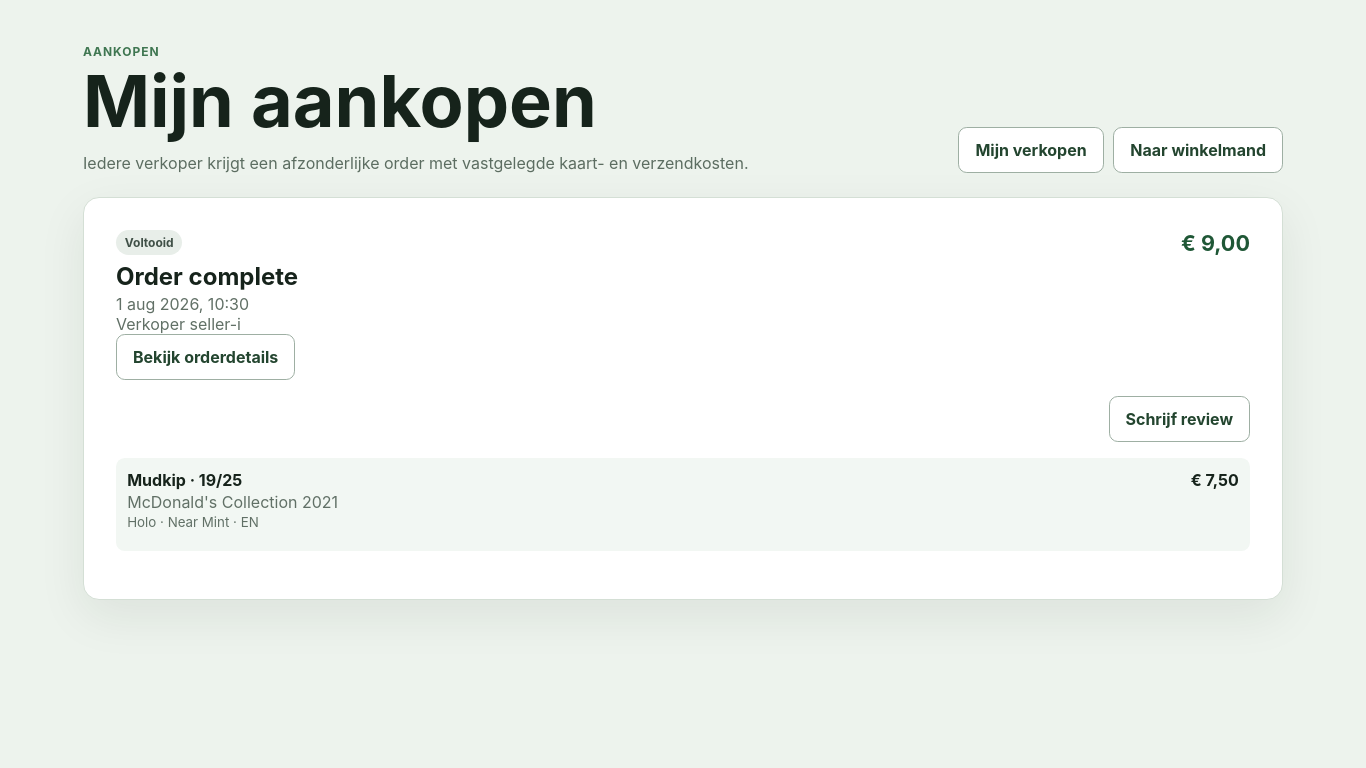
Test: OrdersPage › submits one completed-order review and removes the client-side action after success
Click the button "Schrijf review" at (1179, 419), box [1108,396,1250,442]
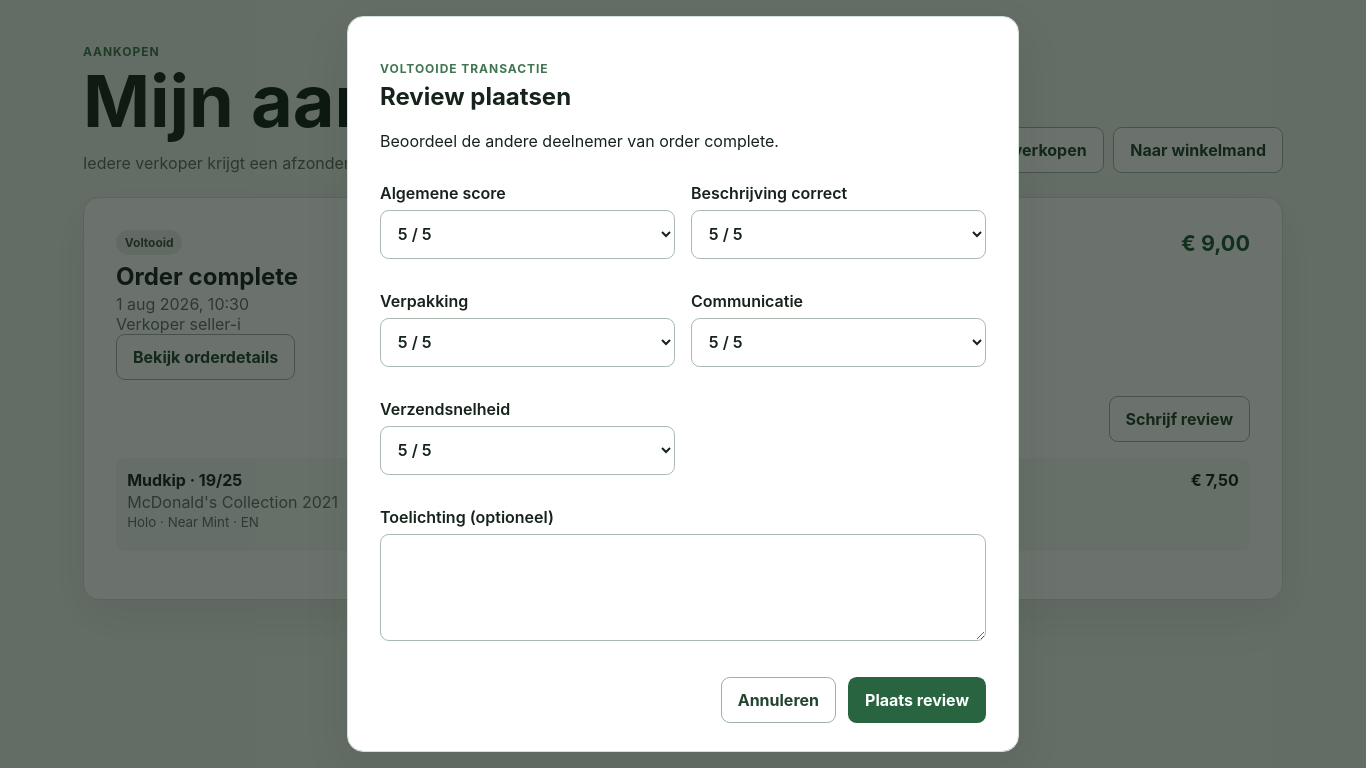
Check: the button "Plaats review" is shown
Click the button "Plaats review" at (917, 700), box [848,677,986,723]
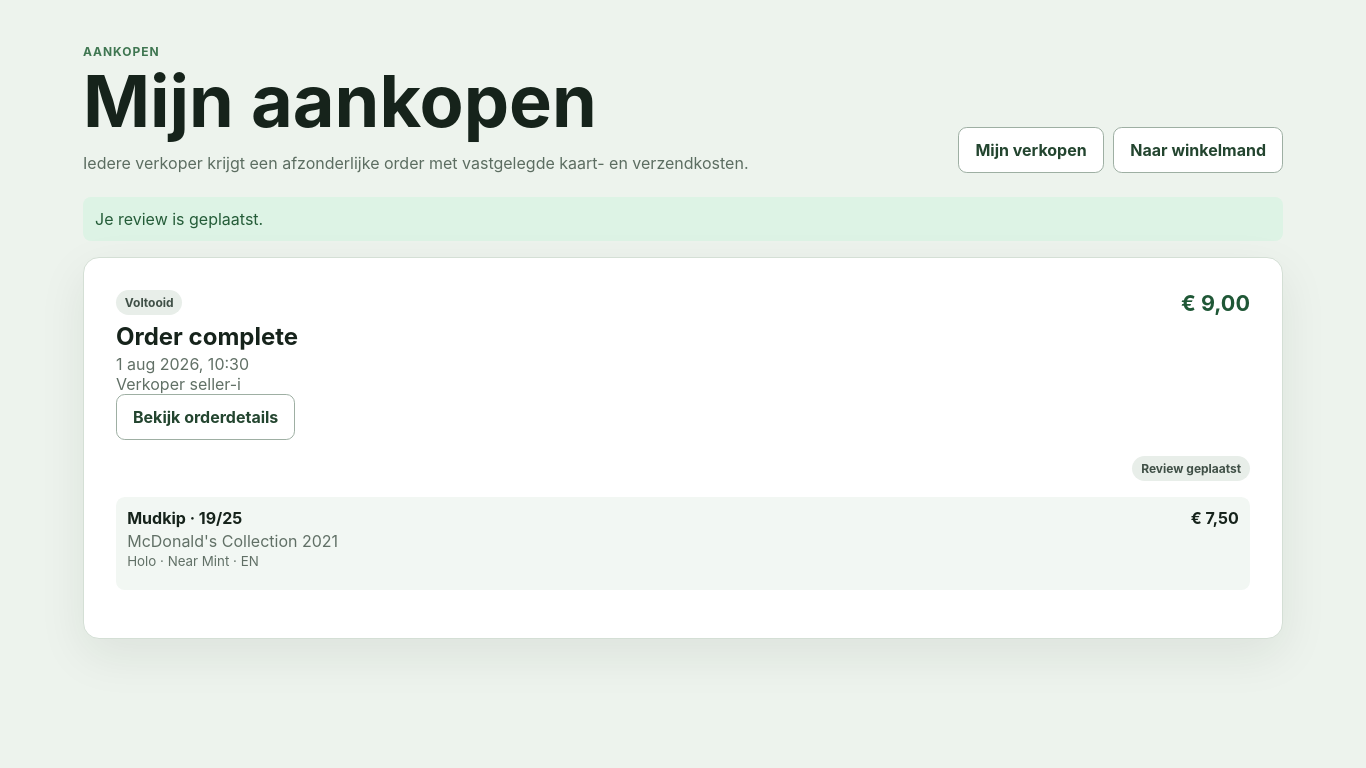
Check: the text "Je review is geplaatst." is shown, box [83,197,1283,241]
Check: the text "Review geplaatst" is shown, box [1132,456,1250,481]
